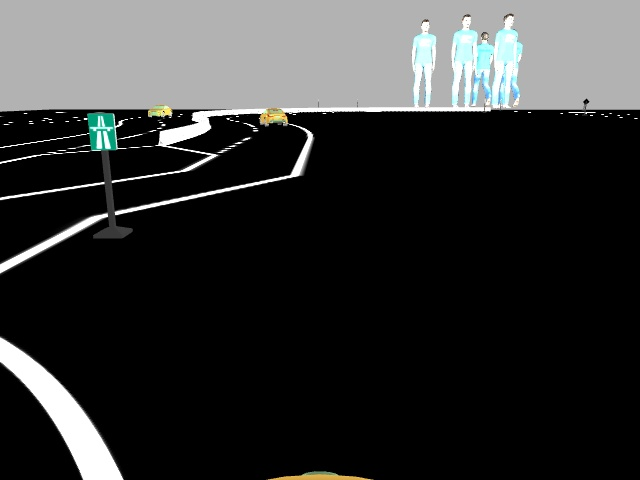HighwayEntrance: (83, 111, 119, 151)
